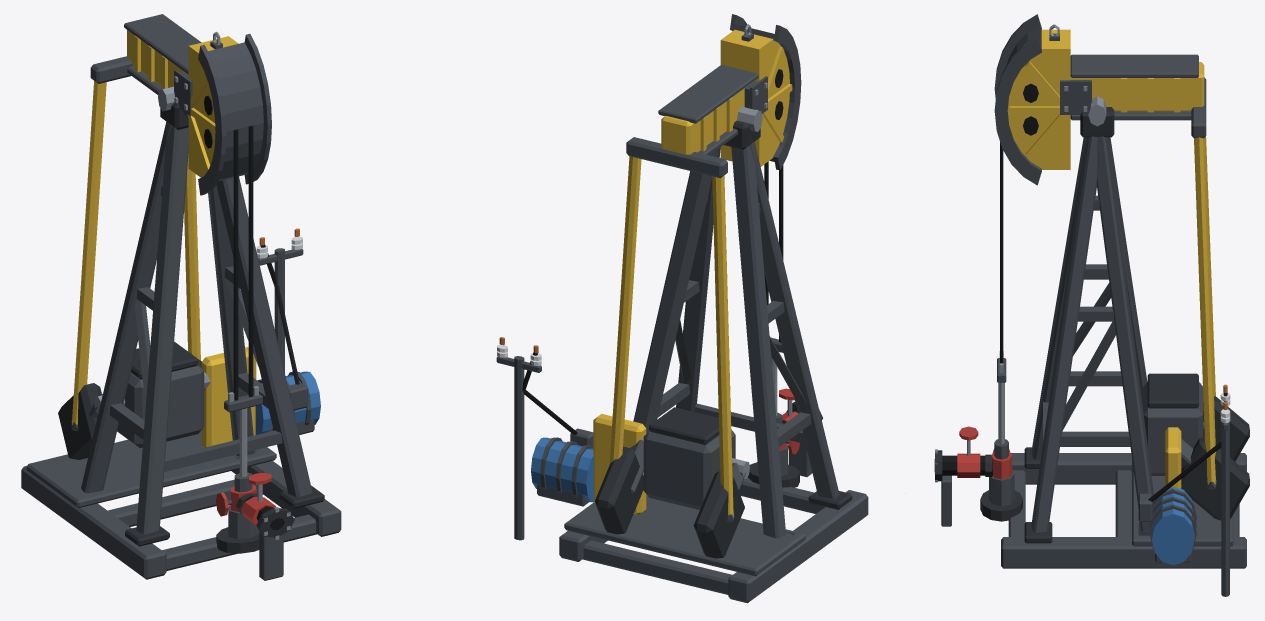
Rendered from chevalet_t2.glb.
3 renders of one model, left to right at view 1: azimuth 30°, elevation 25°; view 2: azimuth 150°, elevation 25°; view 3: azimuth 270°, elevation 25°, orthographic. The views are drawn at different scales.
Parts seen in each view (by area): view 1: pieces_acier_sombre.008, balancier_acier_sombre.002, bielle_jaune.002, platine.002, reducteur.002, tige_noir.002, carter.002, balancier_chapeau.002, balancier_tete.002, manivelle_fonte.002, balancier_jaune.002, moteur.004 (+9 smaller); view 2: pieces_acier_sombre.008, bielle_jaune.002, platine.002, manivelle_fonte.002, reducteur.002, balancier_tete.002, balancier_acier_sombre.002, balancier_chapeau.002, moteur.004, balancier_poutre.002, balancier_palonnier.002, carter.002 (+5 smaller); view 3: pieces_acier_sombre.008, balancier_tete.002, balancier_acier_sombre.002, bielle_jaune.002, manivelle_fonte.002, balancier_poutre.002, balancier_chapeau.002, reducteur.002, moteur.004, balancier_jaune.002, reducteur_capot.002, platine.002 (+14 smaller).
Part boxes in pixels (<box>): pieces_acier_sombre.008: <box>21,121,341,580</box>; balancier_acier_sombre.002: <box>174,33,271,195</box>; bielle_jaune.002: <box>72,81,200,426</box>; platine.002: <box>26,430,276,507</box>; reducteur.002: <box>117,365,204,447</box>; tige_noir.002: <box>233,125,253,400</box>; carter.002: <box>201,347,256,447</box>; balancier_chapeau.002: <box>124,14,201,74</box>; balancier_tete.002: <box>188,36,238,177</box>; manivelle_fonte.002: <box>58,359,201,459</box>; balancier_jaune.002: <box>134,36,215,172</box>; moteur.004: <box>255,371,320,434</box>; pieces_acier_sombre.008: <box>496,142,868,603</box>; bielle_jaune.002: <box>609,156,733,517</box>; platine.002: <box>564,495,805,576</box>; manivelle_fonte.002: <box>594,446,744,558</box>; reducteur.002: <box>643,429,735,509</box>; balancier_tete.002: <box>720,29,789,166</box>; balancier_acier_sombre.002: <box>730,14,801,170</box>; balancier_chapeau.002: <box>658,64,758,123</box>; moteur.004: <box>531,437,593,502</box>; balancier_poutre.002: <box>661,81,753,154</box>; balancier_palonnier.002: <box>626,137,727,178</box>; carter.002: <box>593,414,646,514</box>; pieces_acier_sombre.008: <box>941,136,1246,596</box>; balancier_tete.002: <box>1007,29,1070,169</box>; balancier_acier_sombre.002: <box>994,14,1091,185</box>; bielle_jaune.002: <box>1194,136,1215,484</box>; manivelle_fonte.002: <box>1181,396,1249,520</box>; balancier_poutre.002: <box>1070,62,1204,111</box>; balancier_chapeau.002: <box>1070,54,1198,77</box>; reducteur.002: <box>1143,382,1203,475</box>; moteur.004: <box>1152,487,1194,565</box>; balancier_jaune.002: <box>1009,61,1180,159</box>; reducteur_capot.002: <box>1147,373,1198,408</box>; platine.002: <box>1132,459,1233,546</box>.
Bounding box in the file's own units: 2 × 3.47 × 2.
